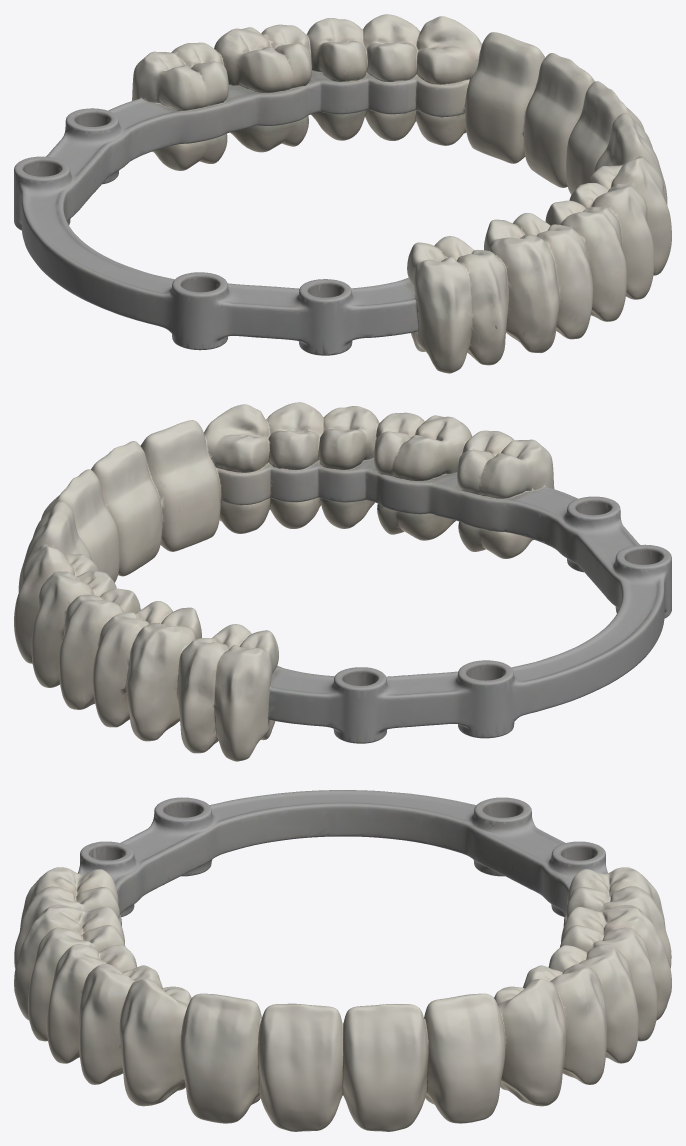
Rendered from all-on-x-arch.glb.
3 views of the same model, one above another, from view 1: azimuth 30°, elevation 25°; view 2: azimuth 150°, elevation 25°; view 3: azimuth 270°, elevation 25° (orthographic).
Visible parts, largest first — view 1: tripo_node_0790dc0a-da6b-4691-a8a8-27e2d158b5fa; view 2: tripo_node_0790dc0a-da6b-4691-a8a8-27e2d158b5fa; view 3: tripo_node_0790dc0a-da6b-4691-a8a8-27e2d158b5fa.
Boxes of the visible parts, <box> form: tripo_node_0790dc0a-da6b-4691-a8a8-27e2d158b5fa: <box>14,14,671,373</box>; tripo_node_0790dc0a-da6b-4691-a8a8-27e2d158b5fa: <box>14,402,671,761</box>; tripo_node_0790dc0a-da6b-4691-a8a8-27e2d158b5fa: <box>14,790,671,1131</box>.
Size of the model in its own units: 0.9987 by 0.2004 by 1.
Materials: 1 (1 with a texture image).
